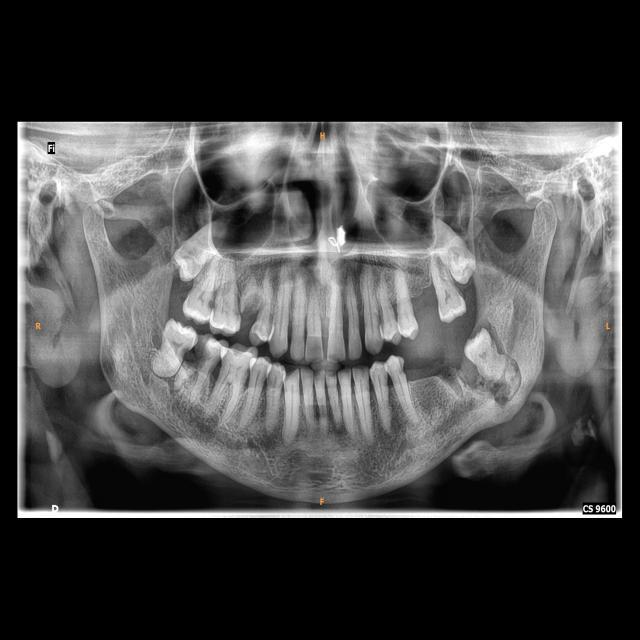kirik: (233, 281, 266, 338), (433, 358, 473, 405), (182, 326, 216, 375)
